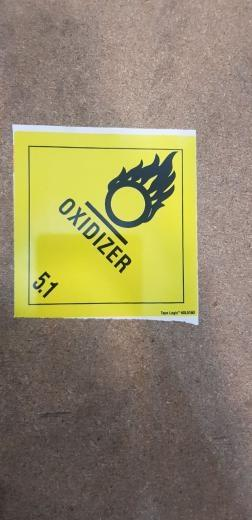oxidizer: (13, 133, 199, 318)
